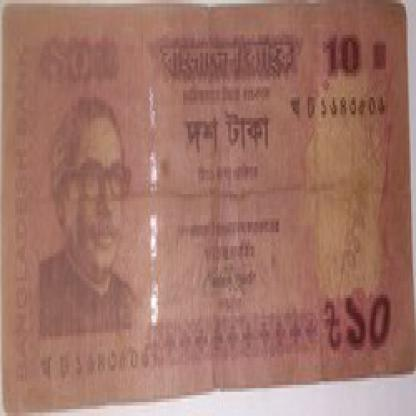Ten Taka: (324, 277, 411, 364), (23, 17, 110, 94)
